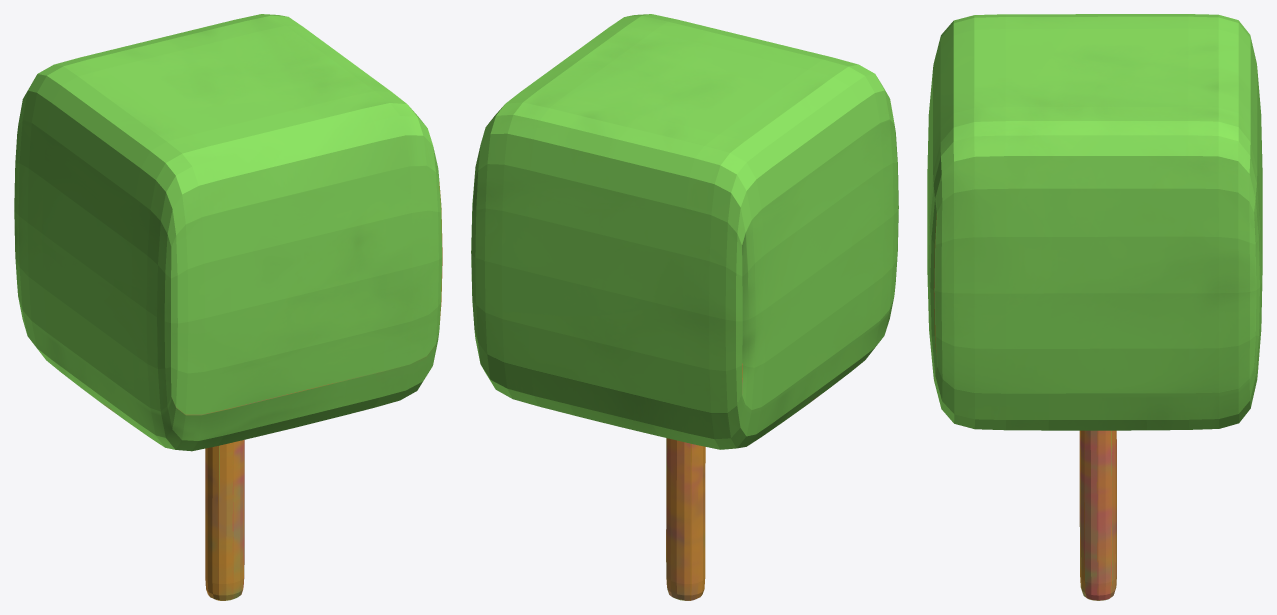
The model's file is tree.gltf.
3 renders of one model, left to right at view 1: azimuth 30°, elevation 25°; view 2: azimuth 150°, elevation 25°; view 3: azimuth 270°, elevation 25°, orthographic. The views are drawn at different scales.
Parts seen in each view (by area): view 1: tree4.001; view 2: tree4.001; view 3: tree4.001.
Boxes of the visible parts, left/top/right/bottom form: tree4.001: left=14, top=14, right=442, bottom=600; tree4.001: left=471, top=14, right=898, bottom=600; tree4.001: left=927, top=14, right=1262, bottom=600.
Size of the model in its own units: 1.38 by 2.41 by 1.38.
1 material, 1 textured.
